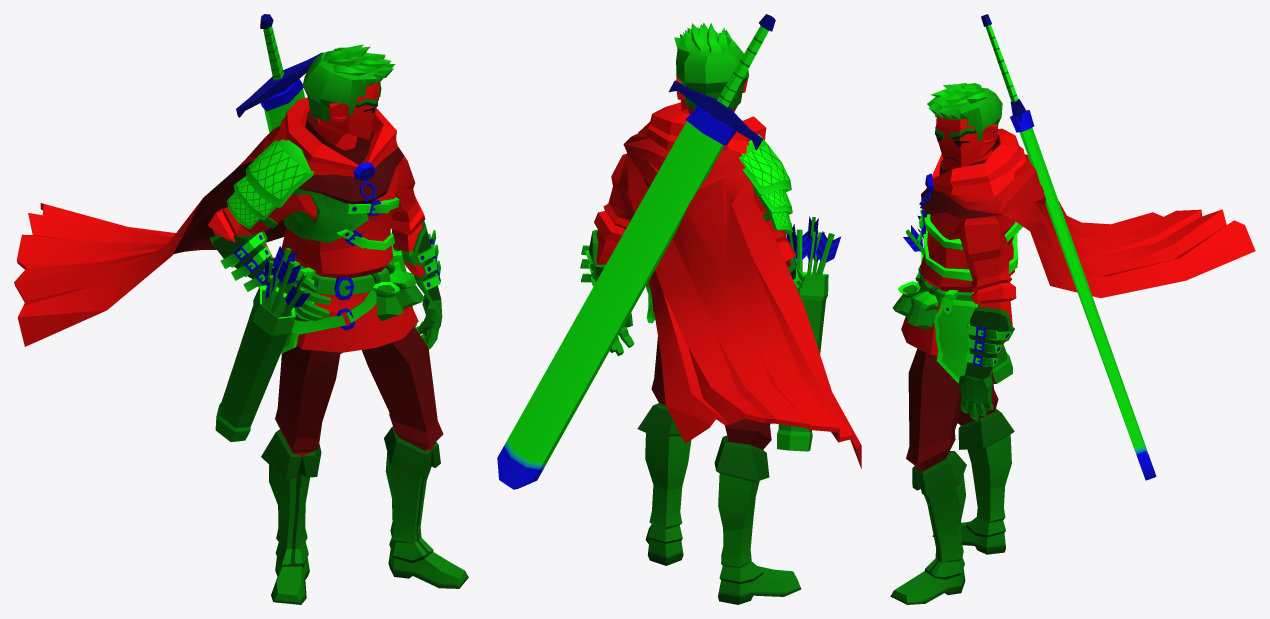
The model's file is M_Swordsman_prePosed2.fbx.
3 views of the same model, side by side, from view 1: azimuth 30°, elevation 25°; view 2: azimuth 150°, elevation 25°; view 3: azimuth 270°, elevation 25° (orthographic). The views are drawn at different scales.
Visible parts, largest first — view 1: M_Swordsman_prePosed2; view 2: M_Swordsman_prePosed2; view 3: M_Swordsman_prePosed2.
Boxes of the visible parts, box(x1,y1,x2,y2) form: M_Swordsman_prePosed2: box(14, 14, 468, 604); M_Swordsman_prePosed2: box(497, 14, 861, 604); M_Swordsman_prePosed2: box(890, 14, 1255, 604).
Size of the model in its own units: 141 by 222 by 141.
